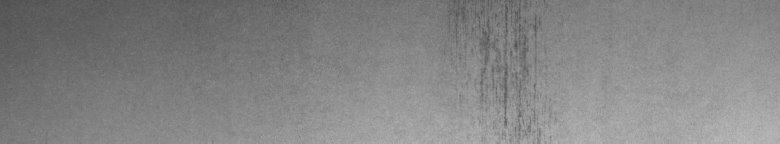ka: (449, 4, 545, 136)
